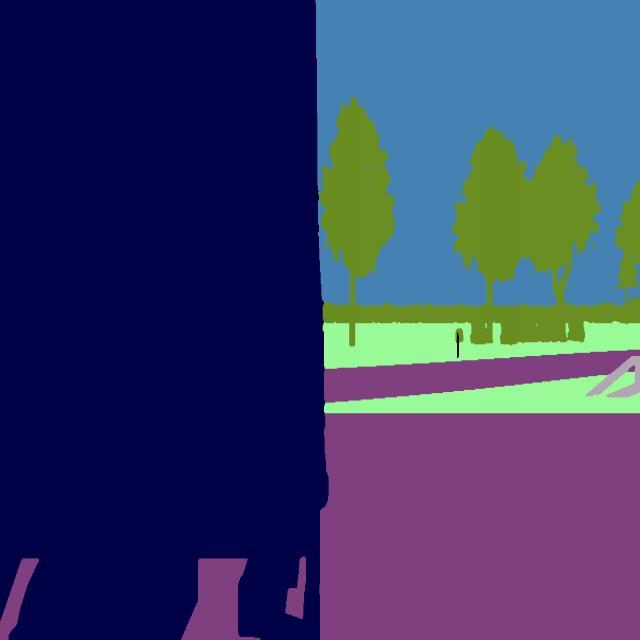unsafe: (0, 0, 331, 640)
